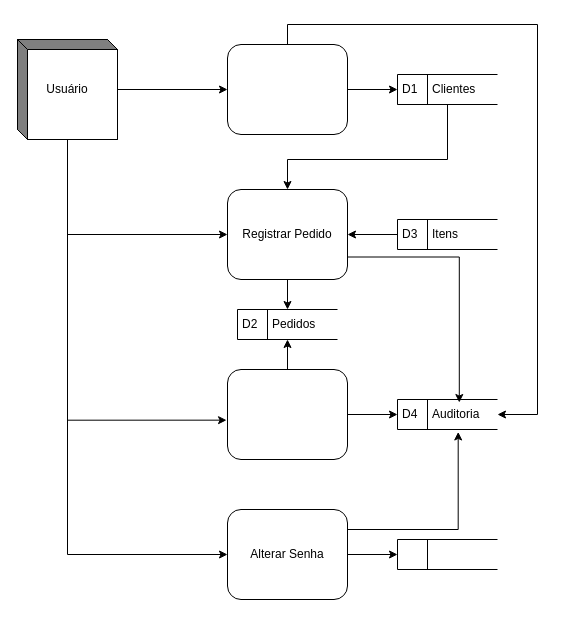
This 563x617 diagram has some shape labels left out. The centre of each missing label's shape, as x and y in pixels:
"Cadatrar Cliente" goes at (x=287, y=89).
"Controlar Pagamento" goes at (x=287, y=414).
"D5 Usuário" goes at (x=447, y=554).
